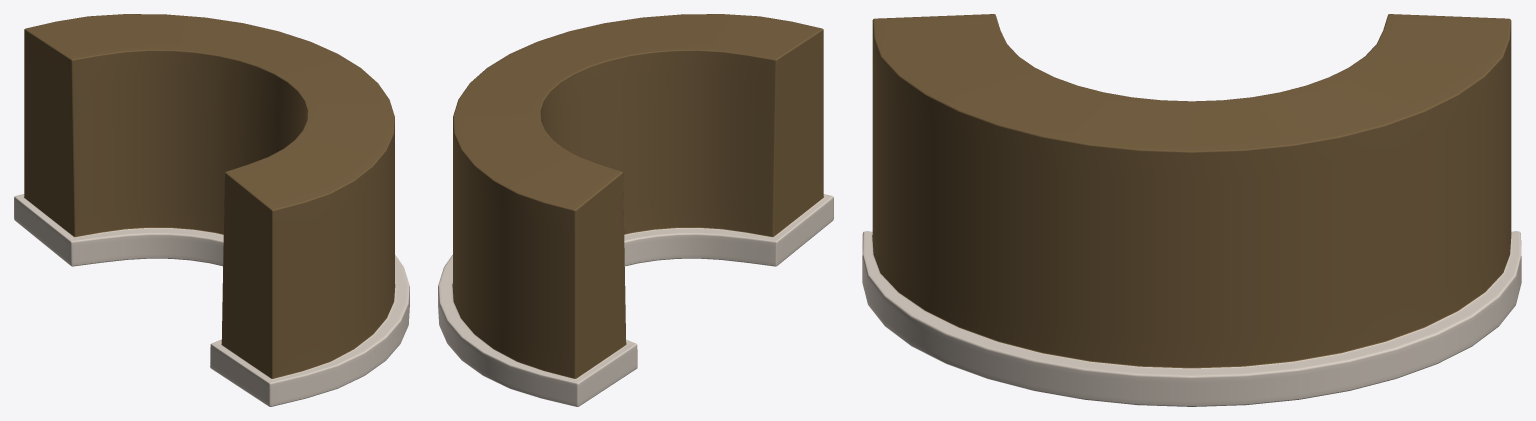
Rendered from MesaSeguridad.fbx.
3 renders of one model, left to right at view 1: azimuth 30°, elevation 25°; view 2: azimuth 150°, elevation 25°; view 3: azimuth 270°, elevation 25°, orthographic. The views are drawn at different scales.
Visible parts, largest first — view 1: MesaSeguridad; view 2: MesaSeguridad; view 3: MesaSeguridad.
Boxes of the visible parts, <box> form: MesaSeguridad: <box>14,14,409,406</box>; MesaSeguridad: <box>438,14,833,406</box>; MesaSeguridad: <box>862,14,1521,406</box>.
Size of the model in its own units: 2.59 by 2.12 by 4.93.
